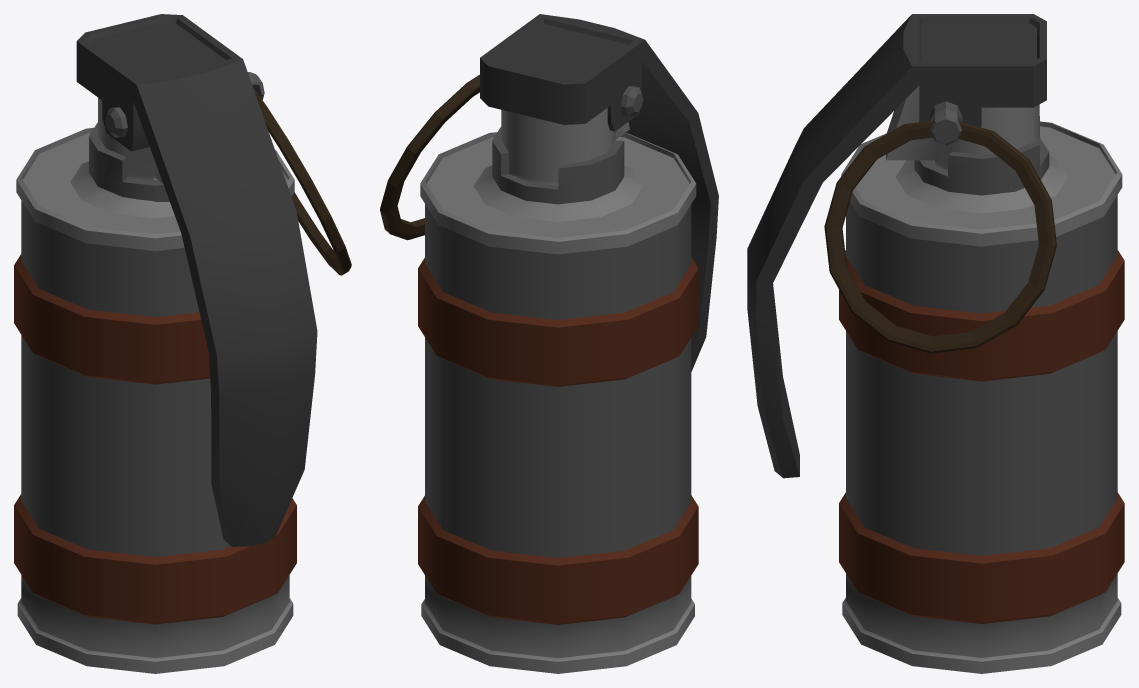
Rendered from smoke_granade.glb.
3 views of the same model, side by side, from view 1: azimuth 30°, elevation 25°; view 2: azimuth 150°, elevation 25°; view 3: azimuth 270°, elevation 25° (orthographic).
Visible parts, largest first — view 1: Cube; view 2: Cube; view 3: Cube.
Part boxes in pixels (x1,y1,x2,y2): Cube: (14, 14, 351, 673); Cube: (380, 14, 718, 673); Cube: (747, 14, 1124, 673).
Size of the model in its own units: 2.82 by 5.44 by 3.2.
